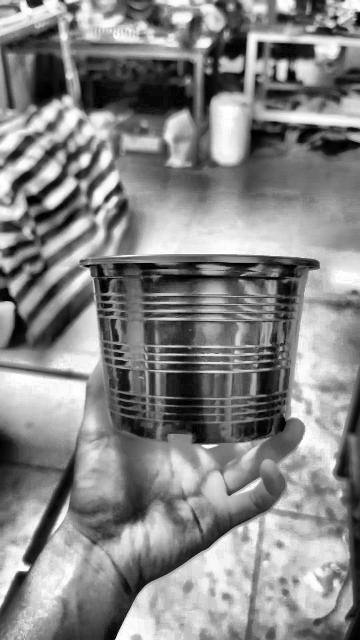pot: (81, 255, 318, 444)
